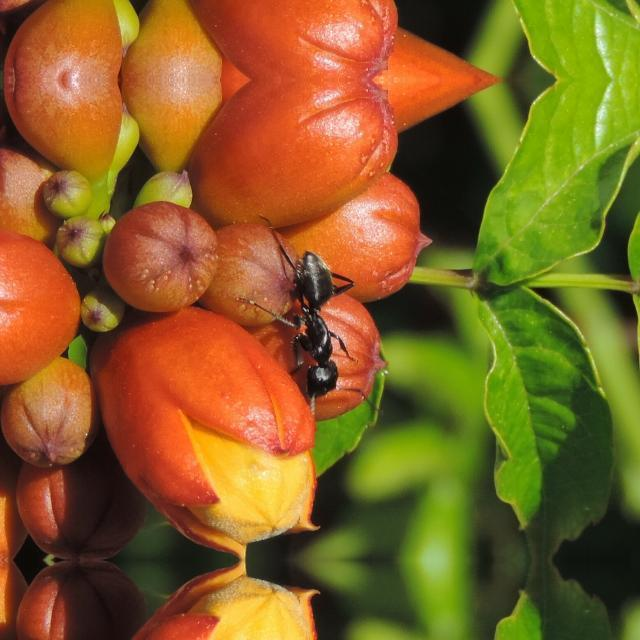Camponotus: (266, 234, 374, 416)
